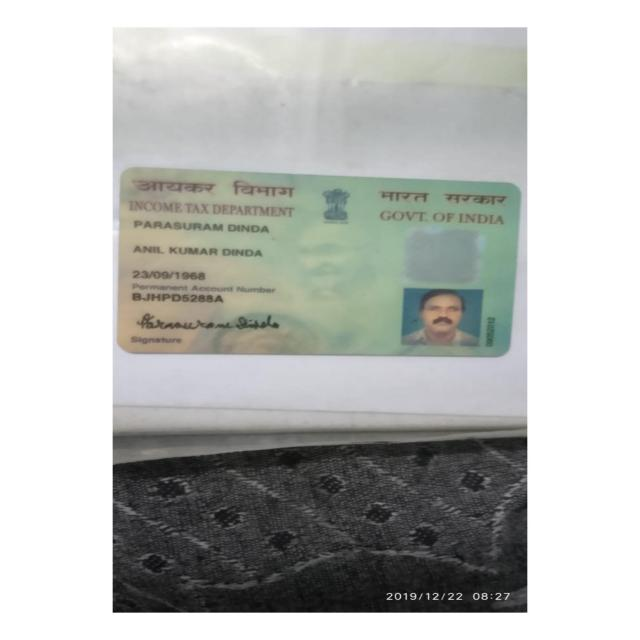pan_card: (120, 166, 516, 357)
